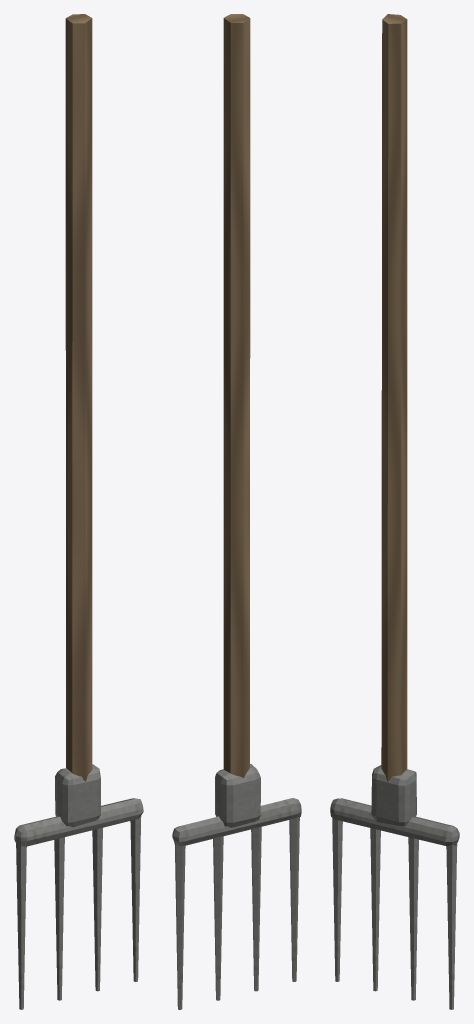
The model's file is pitchfork.glb.
3 renders of one model, left to right at view 1: azimuth 30°, elevation 25°; view 2: azimuth 210°, elevation 25°; view 3: azimuth 330°, elevation 25°, orthographic.
Parts seen in each view (by area): view 1: Pitchfork; view 2: Pitchfork; view 3: Pitchfork.
Part boxes in pixels (x1=…): Pitchfork: x1=14, y1=14, x2=143, y2=1009; Pitchfork: x1=172, y1=14, x2=301, y2=1009; Pitchfork: x1=330, y1=14, x2=459, y2=1009.
Size of the model in its own units: 0.2013 by 1.47 by 0.0419.
2 materials, 2 textured.
